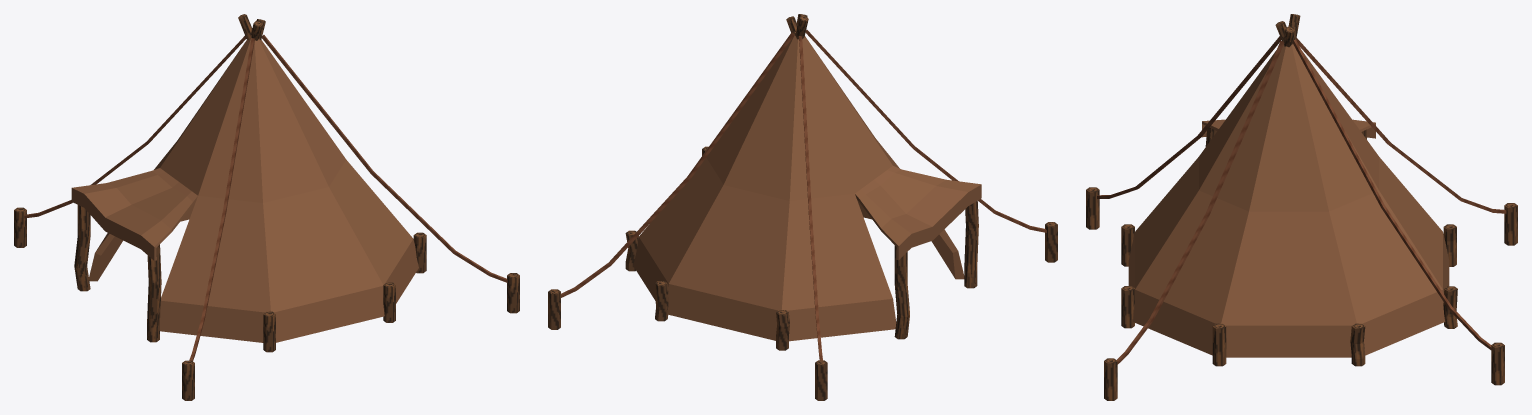
File: Tent_Big.fbx
The picture shows the model from 3 angles, left to right: view 1: azimuth 30°, elevation 25°; view 2: azimuth 150°, elevation 25°; view 3: azimuth 270°, elevation 25°; orthographic projection. The views are drawn at different scales.
Parts seen in each view (by area): view 1: Tent 1; view 2: Tent 1; view 3: Tent 1.
Boxes of the visible parts, x1,y1,x2,y2 form: Tent 1: (14, 14, 519, 400); Tent 1: (548, 14, 1057, 400); Tent 1: (1086, 14, 1517, 400).
Size of the model in its own units: 257 by 198 by 266.
